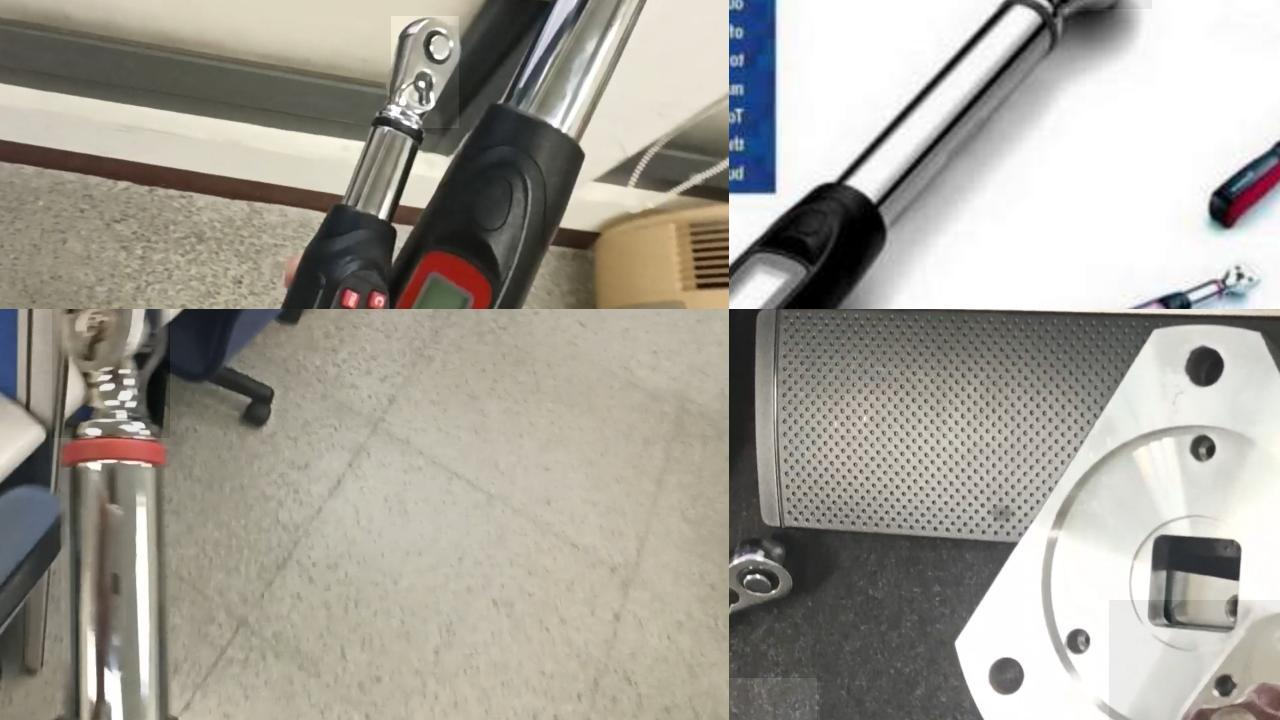Tool: (1108, 599, 1280, 720), (51, 309, 169, 437), (390, 15, 458, 127), (729, 677, 816, 720)
